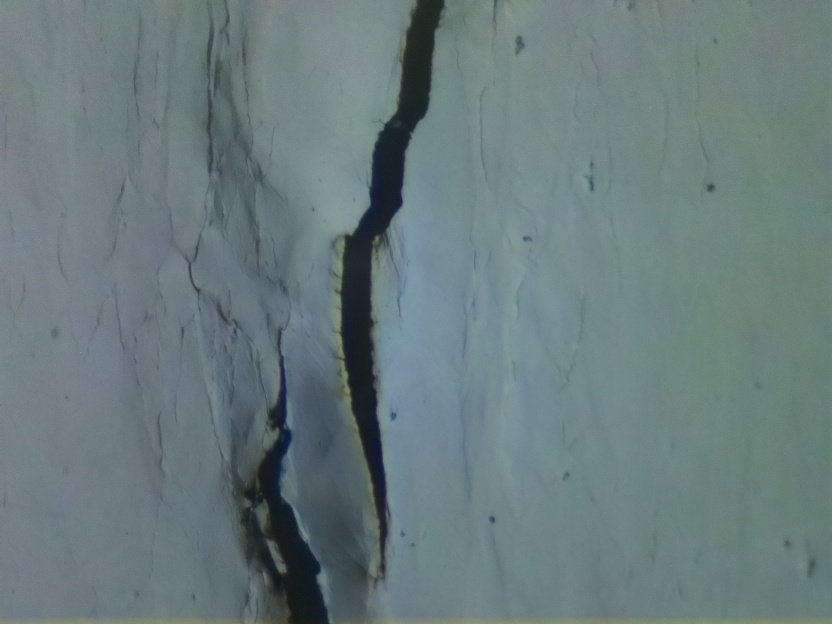crack: (339, 0, 447, 573), (256, 326, 330, 624)
